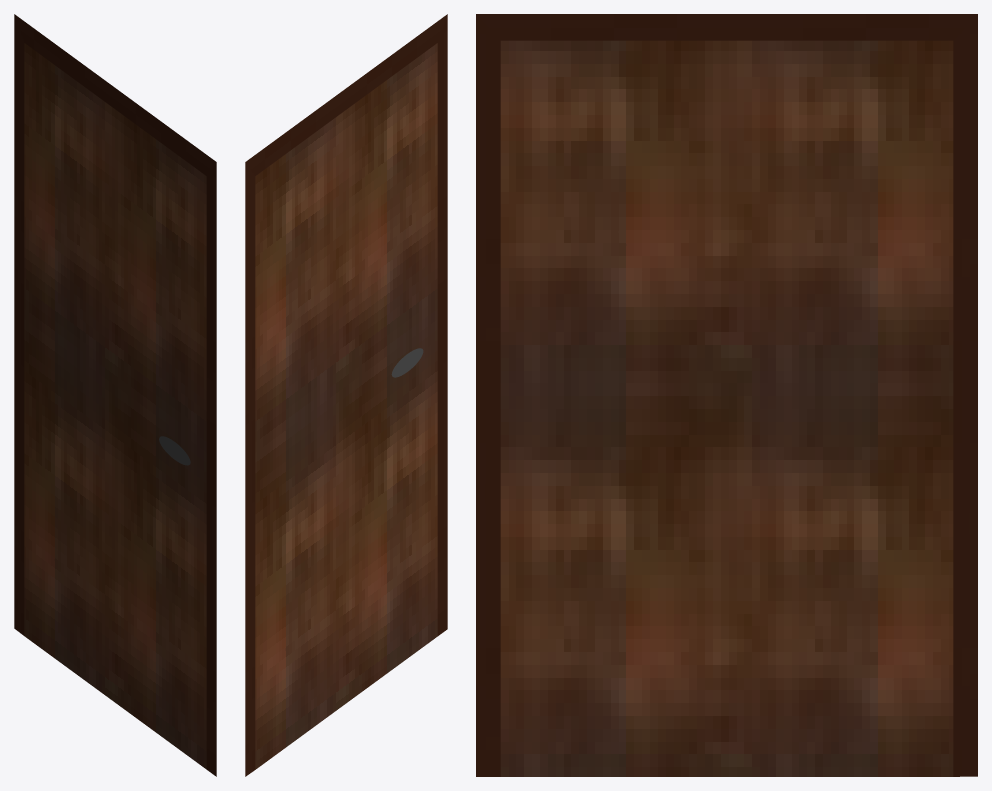
Rendered from door_plane.glb.
3 views of the same model, side by side, from view 1: azimuth 30°, elevation 25°; view 2: azimuth 150°, elevation 25°; view 3: azimuth 270°, elevation 25° (orthographic). The views are drawn at different scales.
Visible parts, largest first — view 1: door_plane; view 2: door_plane; view 3: door_plane.
Part boxes in pixels (left/top/right/bottom): door_plane: left=14, top=14, right=216, bottom=776; door_plane: left=245, top=14, right=447, bottom=776; door_plane: left=476, top=14, right=977, bottom=776.
Bounding box in the file's own units: 0.00356 × 2.42 × 1.44.
Materials: 3 (2 with a texture image).
